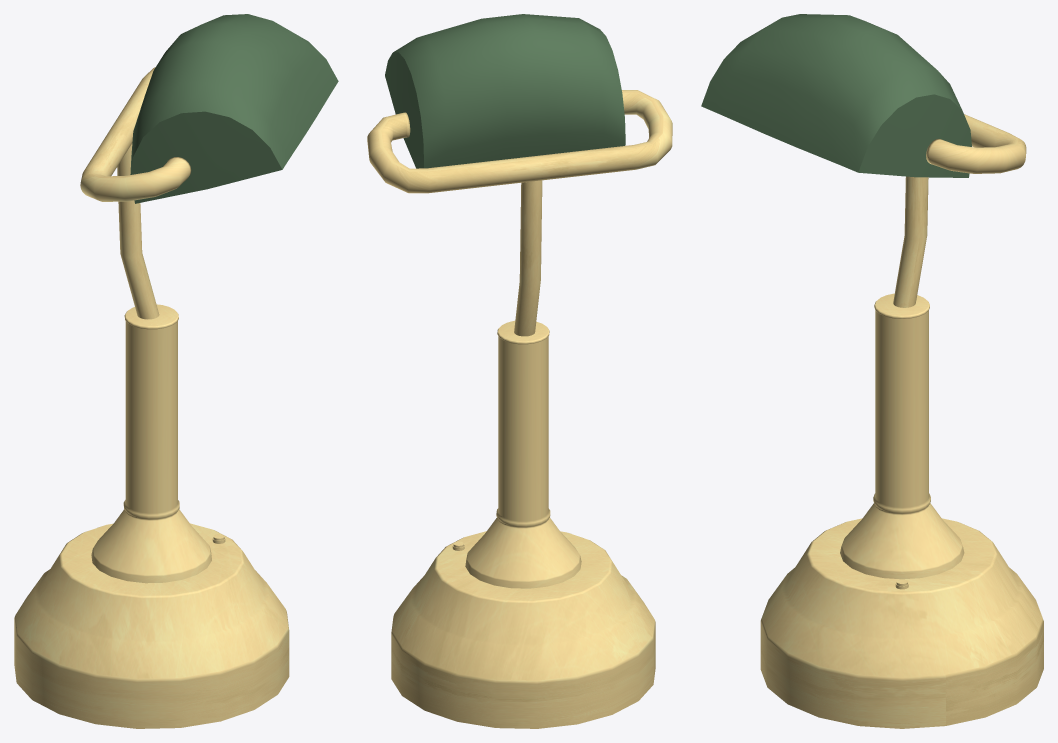
Rendered from lamparina.fbx.
3 views of the same model, side by side, from view 1: azimuth 30°, elevation 25°; view 2: azimuth 150°, elevation 25°; view 3: azimuth 270°, elevation 25° (orthographic). The views are drawn at different scales.
Visible parts, largest first — view 1: base, coiso, haste; view 2: base, coiso, haste; view 3: base, coiso, haste.
Boxes of the visible parts, x1,y1,x2,y2 form: base: [14, 304, 289, 728]; coiso: [130, 14, 338, 203]; haste: [80, 67, 191, 319]; base: [391, 320, 655, 728]; coiso: [385, 14, 625, 168]; haste: [367, 90, 672, 336]; base: [760, 293, 1043, 728]; coiso: [701, 14, 971, 177]; haste: [893, 114, 1026, 307].
Size of the model in its own units: 1.39 by 3.02 by 1.41.
Materials: 3 (1 with a texture image).
